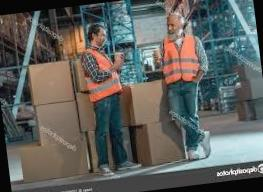person: (151, 8, 221, 169), (73, 18, 139, 178)
